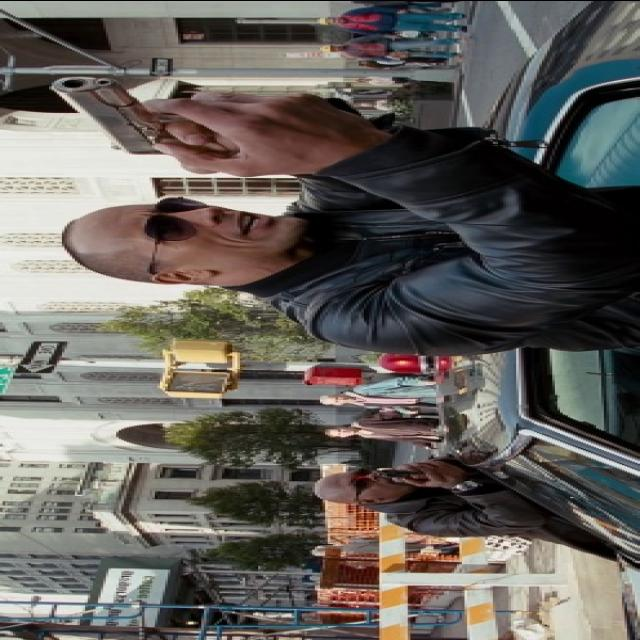weapons: (41, 55, 267, 176)
